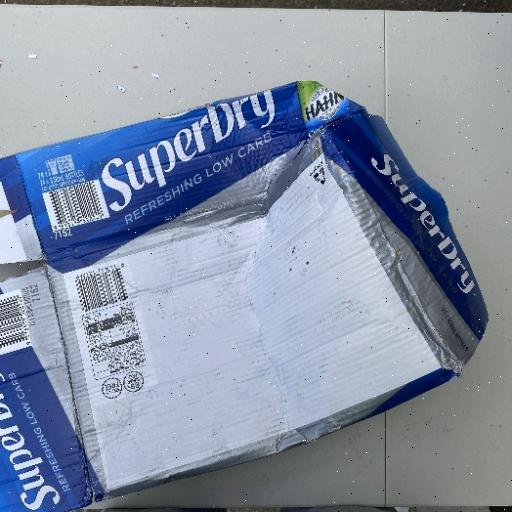Cardboard: (2, 78, 490, 506)
